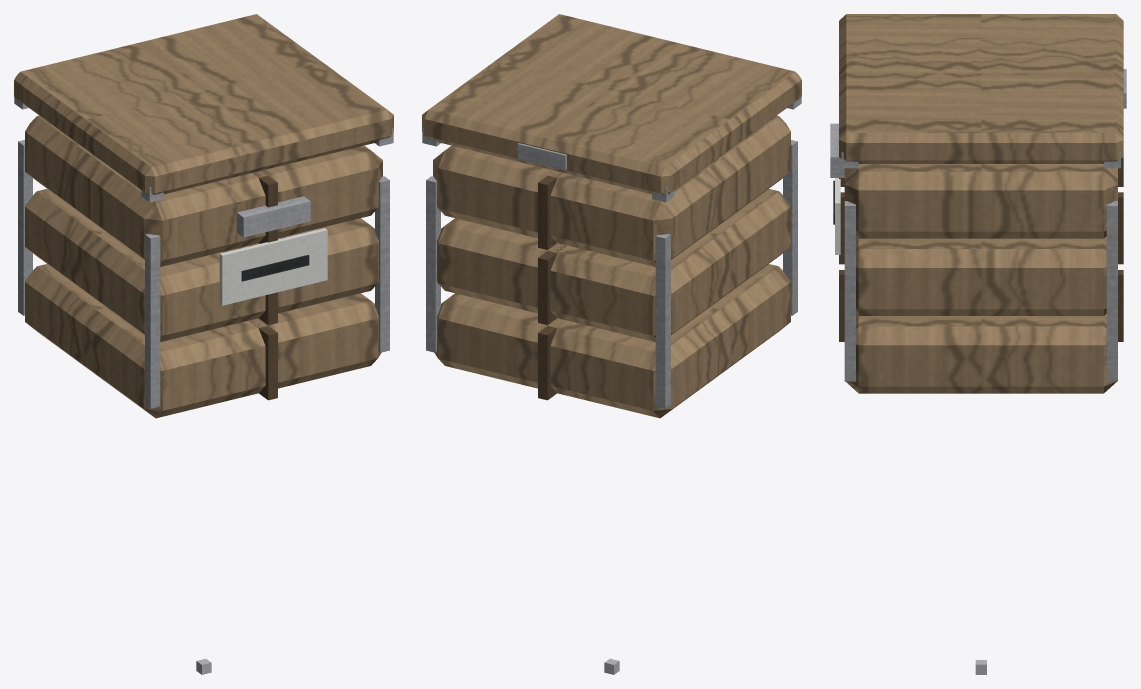
The model's file is rv_furn_storage.gltf.
3 renders of one model, left to right at view 1: azimuth 30°, elevation 25°; view 2: azimuth 150°, elevation 25°; view 3: azimuth 270°, elevation 25°, orthographic. The views are drawn at different scales.
Visible parts, largest first — view 1: RV_Furn_Storage; view 2: RV_Furn_Storage; view 3: RV_Furn_Storage.
Boxes of the visible parts, left/top/right/bottom form: RV_Furn_Storage: left=14, top=14, right=393, bottom=674; RV_Furn_Storage: left=422, top=14, right=801, bottom=674; RV_Furn_Storage: left=830, top=14, right=1126, bottom=674.
Bounding box in the file's own units: 0.52 × 1.16 × 0.52.
Materials: 6 (5 with a texture image).
